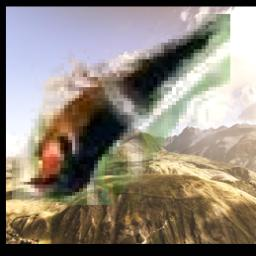Swallow: (13, 14, 231, 205)
